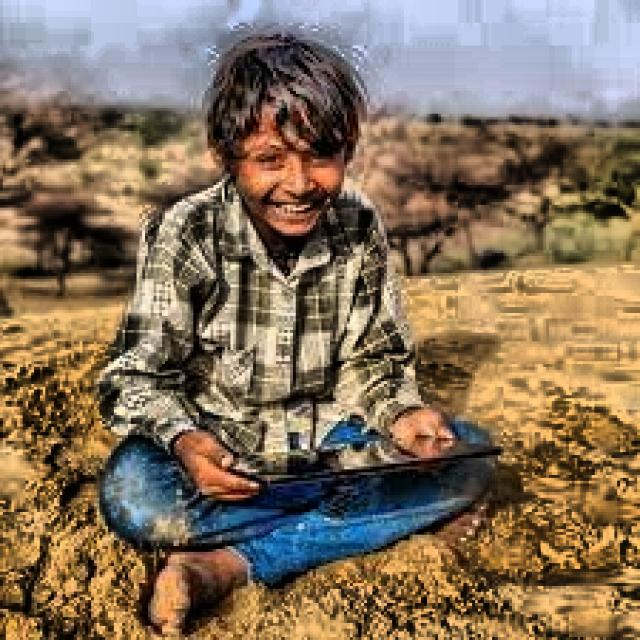Human: (88, 29, 504, 626)
